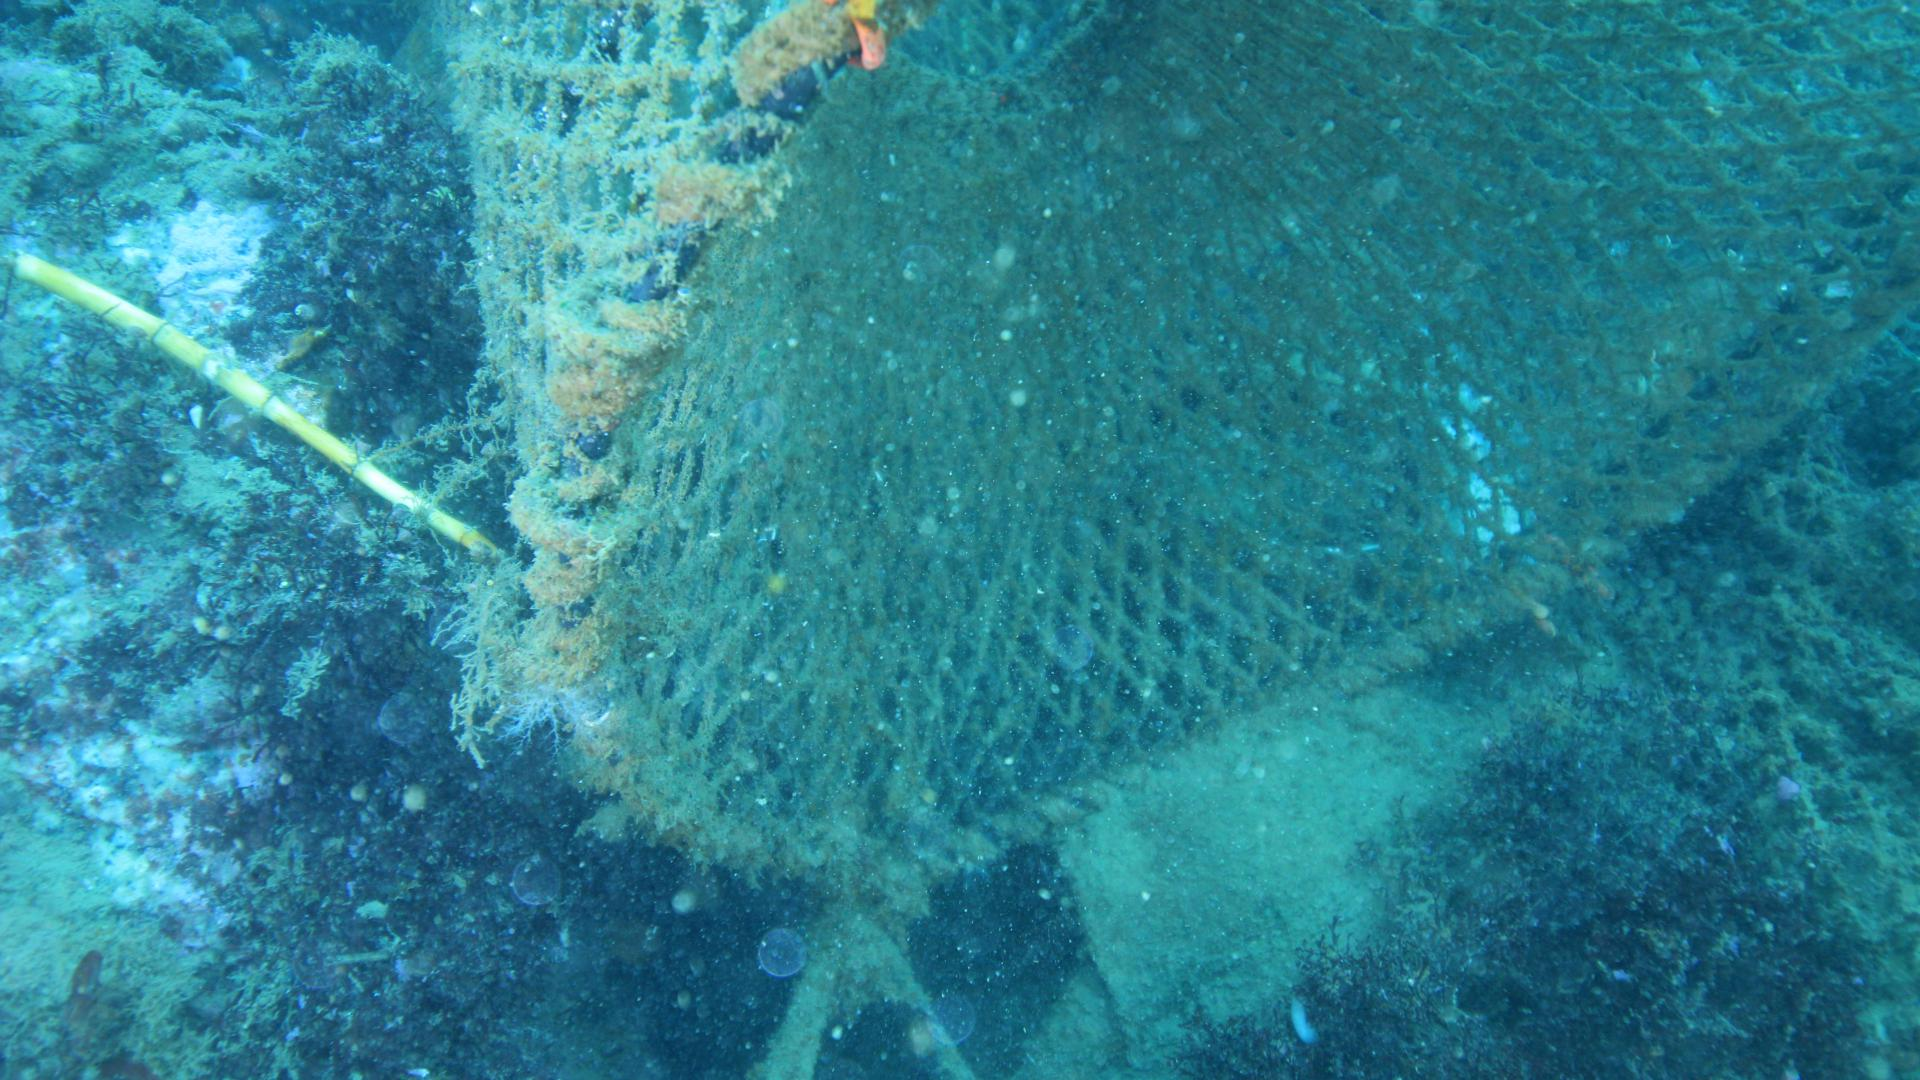circular fish trap: (452, 1, 1920, 876)
